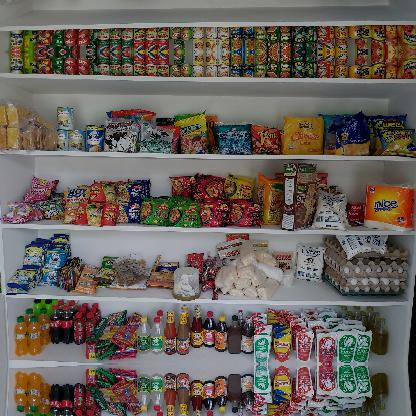Koko-Krunch: (282, 160, 320, 233)
Lady-s-Choice: (172, 265, 202, 301)
